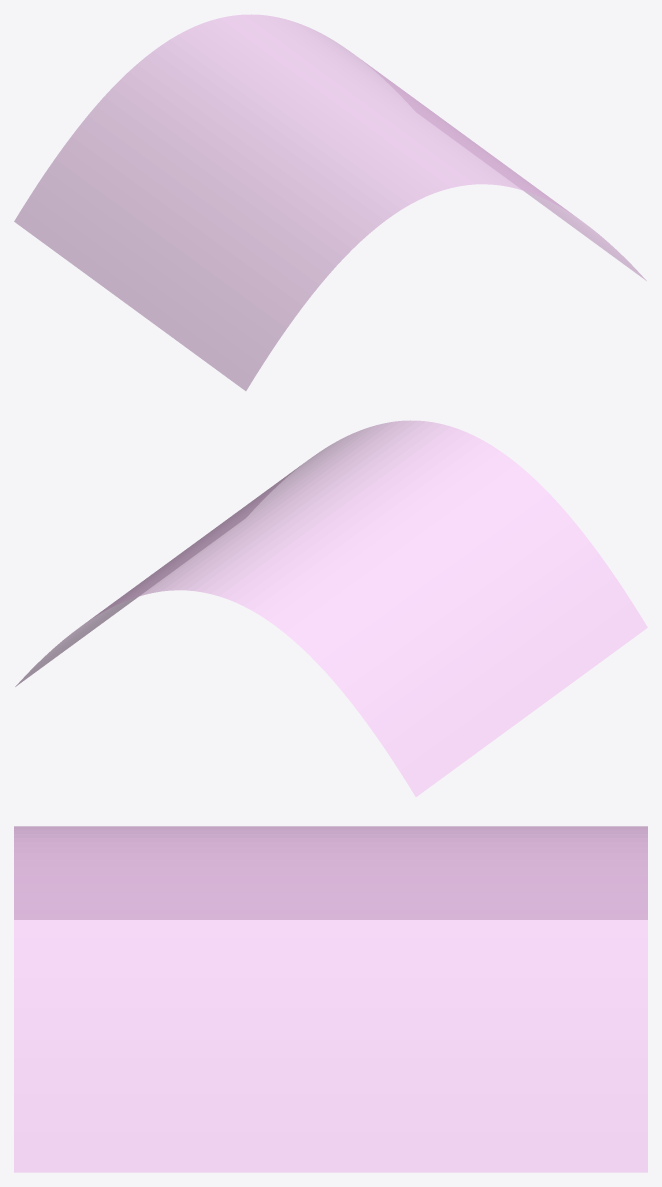
The model's file is plasma cylinder.dae.
3 renders of one model, top to bottom at view 1: azimuth 30°, elevation 25°; view 2: azimuth 150°, elevation 25°; view 3: azimuth 270°, elevation 25°, orthographic. The views are drawn at different scales.
Parts seen in each view (by area): view 1: Cylinder_hypersonic.stl_2; view 2: Cylinder_hypersonic.stl_2; view 3: Cylinder_hypersonic.stl_2.
Part boxes in pixels (x1=…): Cylinder_hypersonic.stl_2: x1=14, y1=14, x2=646, y2=390; Cylinder_hypersonic.stl_2: x1=15, y1=420, x2=647, y2=796; Cylinder_hypersonic.stl_2: x1=14, y1=826, x2=647, y2=1172.
Bounding box in the file's own units: 1929 × 1929 × 703.
